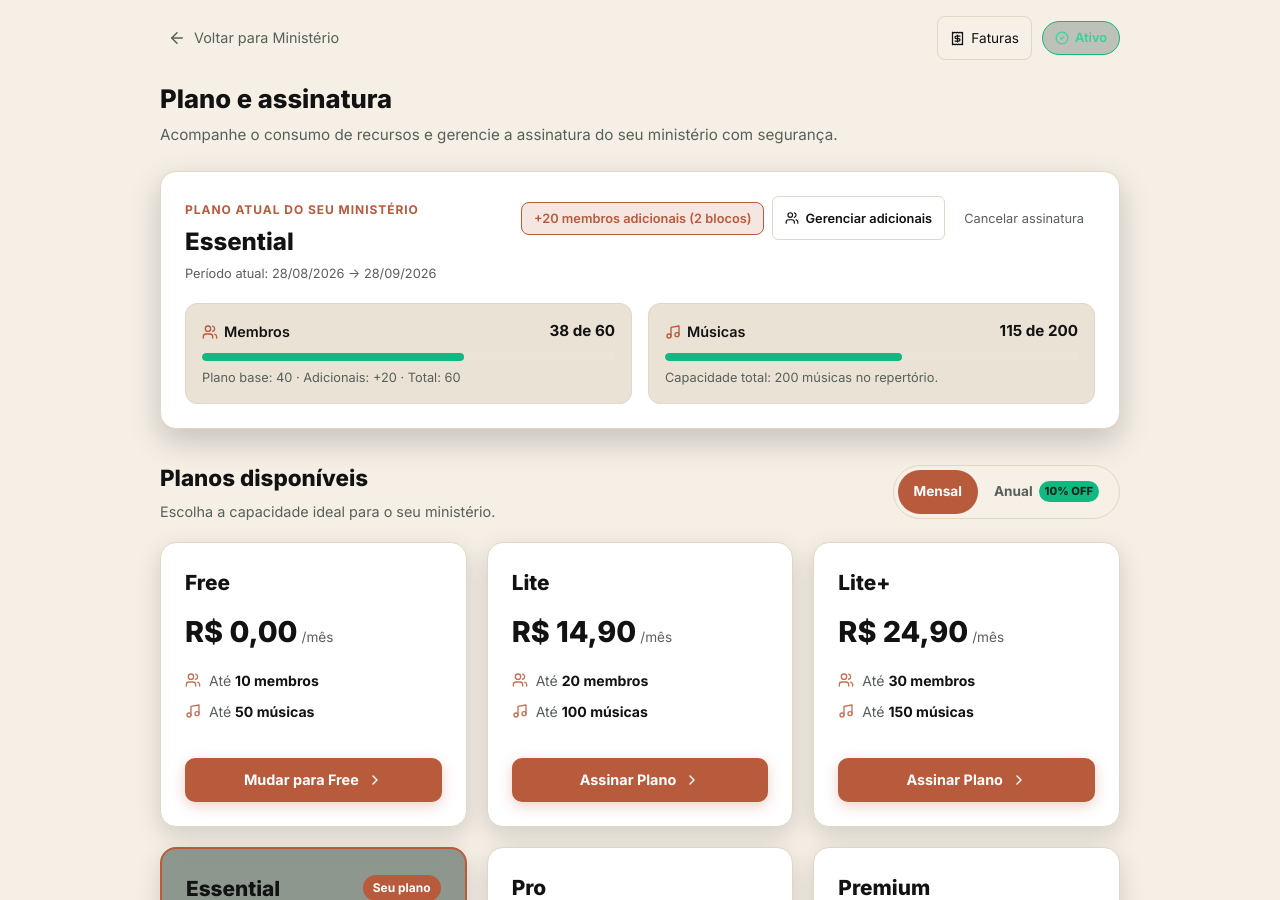
Test case: SubscriptionPlanView Component › deve priorizar paid_billing_date comercial (01/09/2026) sem deslocamento UTC e manter fallback legacy para paid_at
Click the button "Faturas": click(985, 38) [937,16,1032,60]
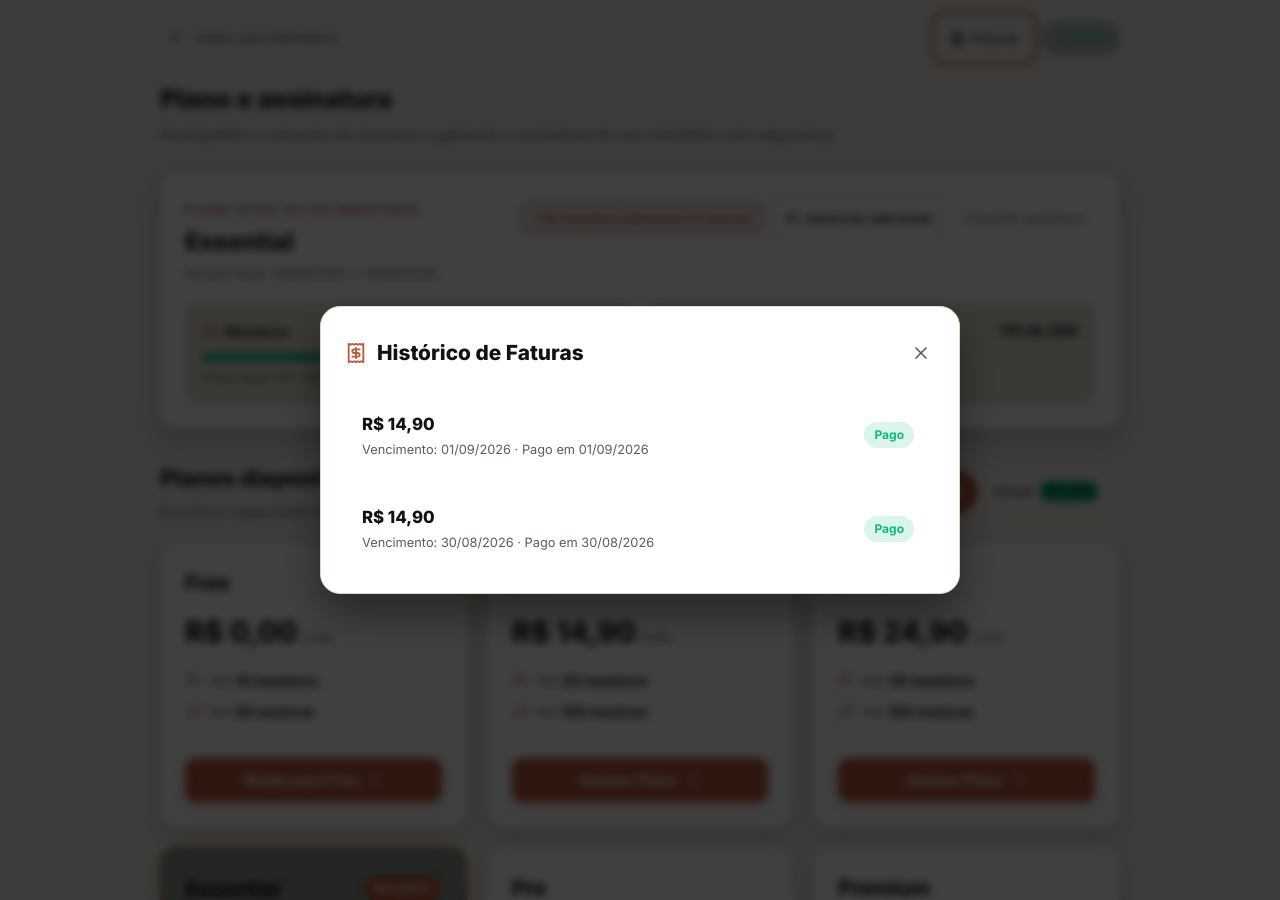
Now the heading "Histórico de Faturas" is shown, box [377,337,584,368]
Now the text "Vencimento: 01/09/2026 · Pago em 01/09/2026" is shown, box [362,440,649,459]
Now the text "Vencimento: 30/08/2026 · Pago em 30/08/2026" is shown, box [362,533,654,552]
